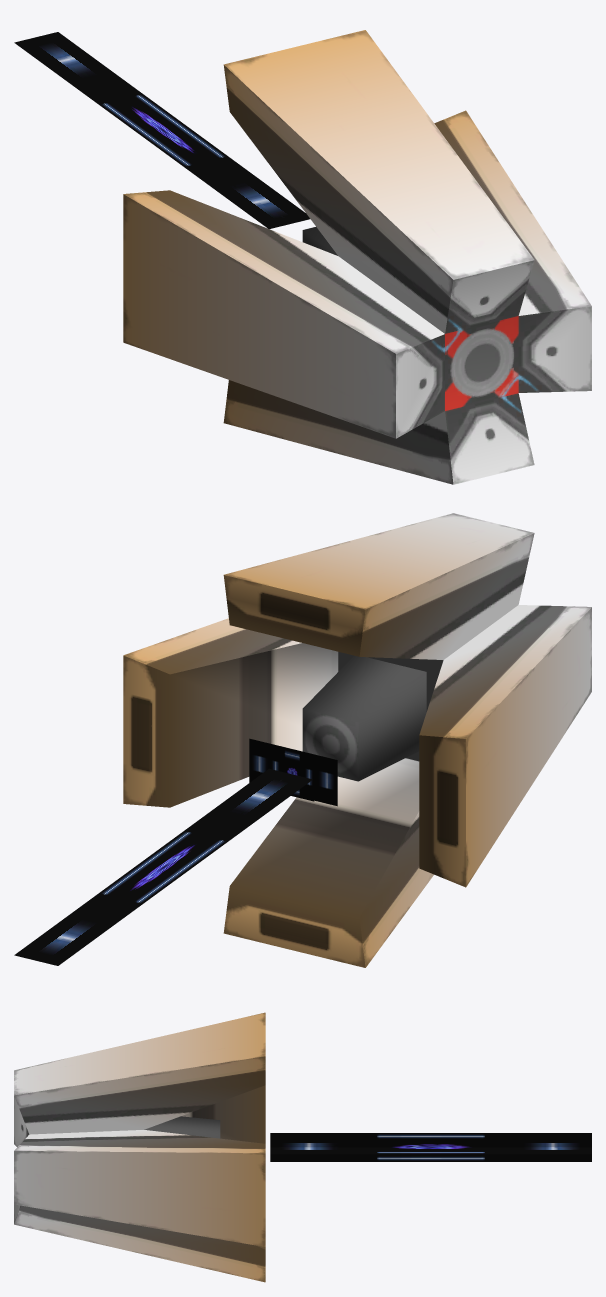
File: construction-drone.glb
3 views of the same model, one above another, from view 1: azimuth 30°, elevation 25°; view 2: azimuth 150°, elevation 25°; view 3: azimuth 270°, elevation 25° (orthographic). The views are drawn at different scales.
Parts seen in each view (by area): view 1: construction-drone, quad-fx-flame; view 2: construction-drone, quad-fx-flame, quad-fx-flare, quad-fx-fire; view 3: construction-drone, quad-fx-flame (×2).
Part boxes in pixels (x1=…): construction-drone: x1=123, y1=30, x2=591, y2=484; quad-fx-flame: x1=14, y1=32, x2=309, y2=228; construction-drone: x1=123, y1=513, x2=591, y2=967; quad-fx-flame: x1=14, y1=768, x2=312, y2=965; quad-fx-flare: x1=249, y1=738, x2=337, y2=806; quad-fx-fire: x1=270, y1=744, x2=314, y2=801; construction-drone: x1=14, y1=1012, x2=265, y2=1282; quad-fx-flame (×2): x1=270, y1=1133, x2=591, y2=1161.
Bounding box in the file's own units: 0.7761 × 0.7761 × 1.8.
Materials: 2 (2 with a texture image).
